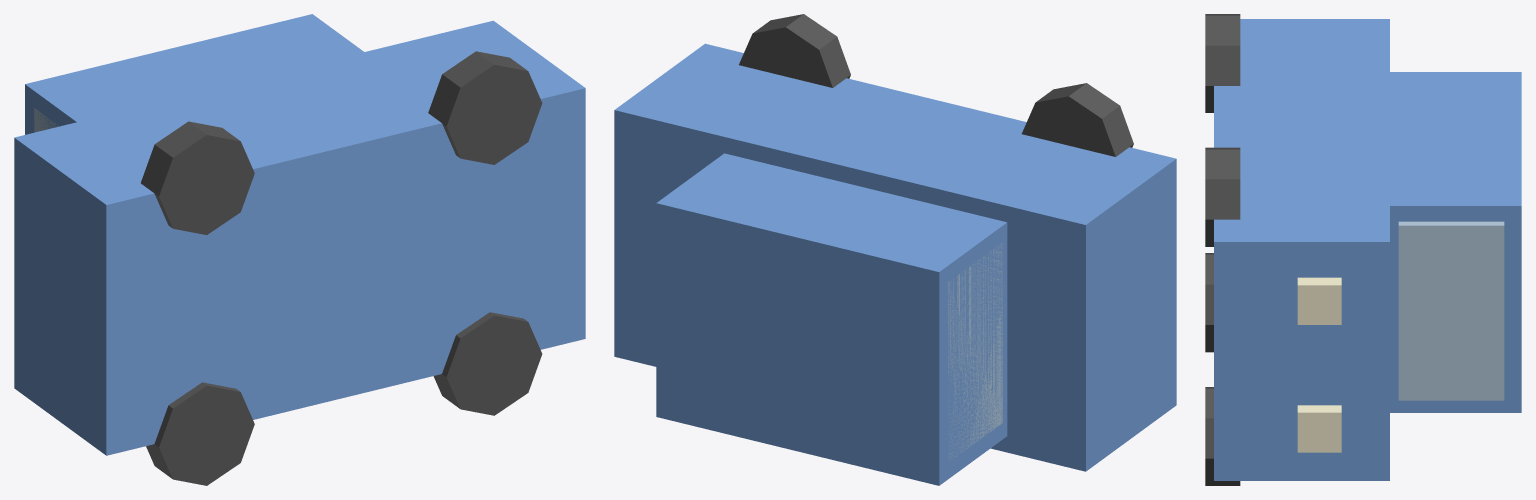
The model's file is Car_Blue.fbx.
3 renders of one model, left to right at view 1: azimuth 30°, elevation 25°; view 2: azimuth 150°, elevation 25°; view 3: azimuth 270°, elevation 25°, orthographic. The views are drawn at different scales.
Parts seen in each view (by area): view 1: Car_Blue_BodyLow, Car_Blue_BodyTop, Car_Blue_Wheel_2, Car_Blue_Wheel_0, Car_Blue_Wheel_1, Car_Blue_Wheel_3; view 2: Car_Blue_BodyLow, Car_Blue_BodyTop, Car_Blue_RearWindow, Car_Blue_Wheel_0, Car_Blue_Wheel_2; view 3: Car_Blue_BodyLow, Car_Blue_BodyTop, Car_Blue_Windshield, Car_Blue_Wheel_0, Car_Blue_Wheel_2, Car_Blue_HeadlightR, Car_Blue_HeadlightL, Car_Blue_Wheel_1, Car_Blue_Wheel_3.
Part boxes in pixels (left/top/right/bottom): Car_Blue_BodyLow: left=14, top=20, right=585, bottom=455; Car_Blue_BodyTop: left=25, top=14, right=363, bottom=134; Car_Blue_Wheel_2: left=141, top=121, right=254, bottom=234; Car_Blue_Wheel_0: left=428, top=51, right=542, bottom=164; Car_Blue_Wheel_1: left=433, top=312, right=542, bottom=415; Car_Blue_Wheel_3: left=146, top=382, right=254, bottom=485; Car_Blue_BodyLow: left=614, top=43, right=1176, bottom=471; Car_Blue_BodyTop: left=656, top=153, right=1007, bottom=485; Car_Blue_RearWindow: left=948, top=243, right=1002, bottom=461; Car_Blue_Wheel_0: left=739, top=14, right=850, bottom=87; Car_Blue_Wheel_2: left=1021, top=83, right=1133, bottom=156; Car_Blue_BodyLow: left=1214, top=19, right=1389, bottom=480; Car_Blue_BodyTop: left=1390, top=72, right=1521, bottom=412; Car_Blue_Windshield: left=1398, top=221, right=1504, bottom=400; Car_Blue_Wheel_0: left=1205, top=147, right=1240, bottom=246; Car_Blue_Wheel_2: left=1205, top=14, right=1240, bottom=112; Car_Blue_HeadlightR: left=1297, top=405, right=1341, bottom=452; Car_Blue_HeadlightL: left=1297, top=277, right=1341, bottom=324; Car_Blue_Wheel_1: left=1205, top=387, right=1240, bottom=485; Car_Blue_Wheel_3: left=1205, top=253, right=1213, bottom=352.
Size of the model in its own units: 0.62 by 0.42 by 0.36.
